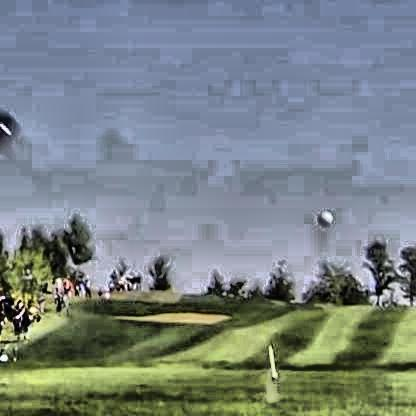golfball: (314, 207, 330, 225)
